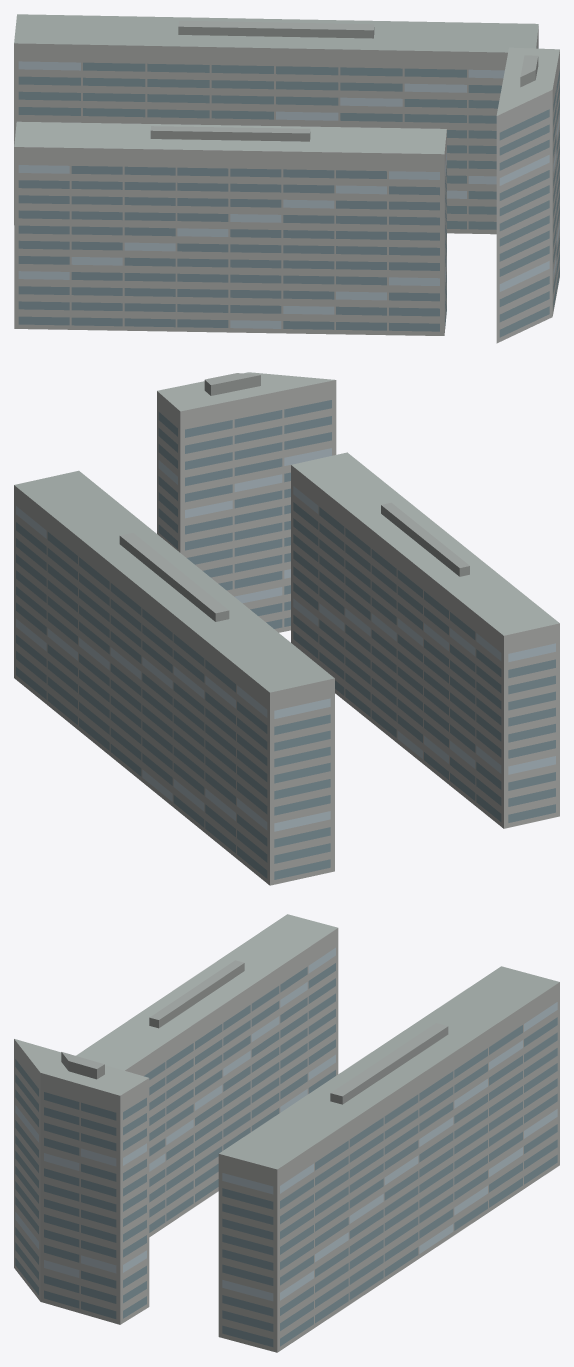
Rendered from apt-a13813003.glb.
3 renders of one model, top to bottom at view 1: azimuth 30°, elevation 25°; view 2: azimuth 150°, elevation 25°; view 3: azimuth 270°, elevation 25°, orthographic. The views are drawn at different scales.
Visible parts, largest first — view 1: apt-a13813003; view 2: apt-a13813003; view 3: apt-a13813003.
Boxes of the visible parts, left/top/right/bottom form: apt-a13813003: left=14, top=14, right=559, bottom=343; apt-a13813003: left=14, top=372, right=559, bottom=885; apt-a13813003: left=14, top=914, right=559, bottom=1352.
Size of the model in its own units: 109 by 47.81 by 98.81.
